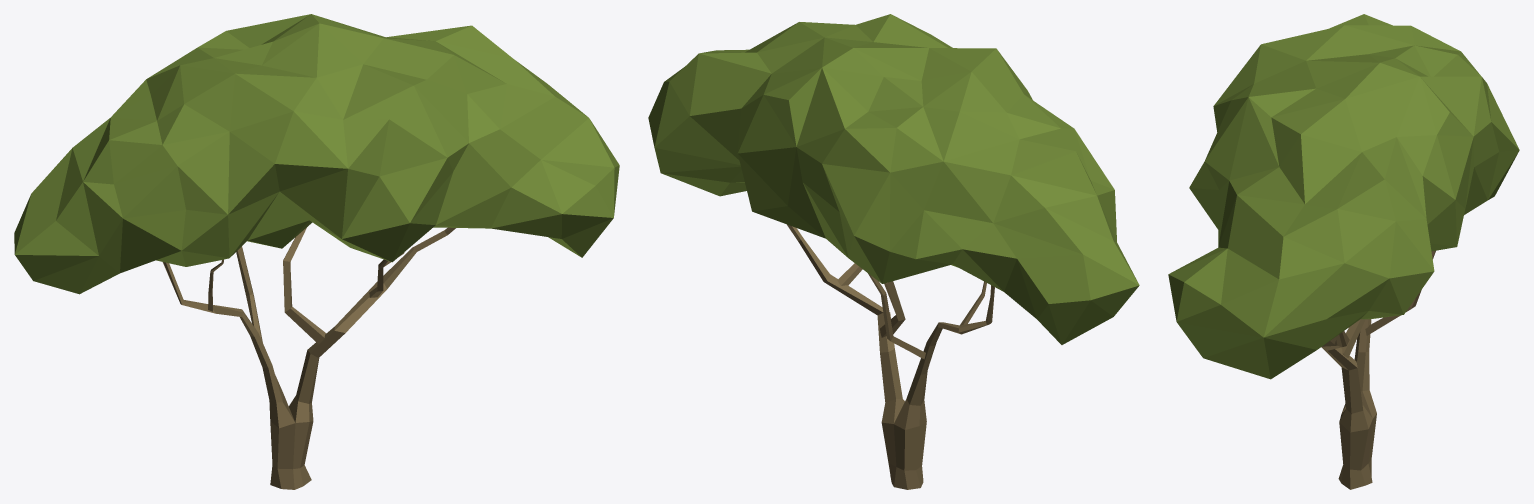
The model's file is Tree_6.fbx.
3 views of the same model, side by side, from view 1: azimuth 30°, elevation 25°; view 2: azimuth 150°, elevation 25°; view 3: azimuth 270°, elevation 25° (orthographic).
Parts seen in each view (by area): view 1: Tree_6; view 2: Tree_6; view 3: Tree_6.
Part boxes in pixels (x1,y1,x2,y2): Tree_6: (14,14,619,489); Tree_6: (648,14,1139,489); Tree_6: (1168,14,1519,489).
Size of the model in its own units: 1180 by 919 by 668.
